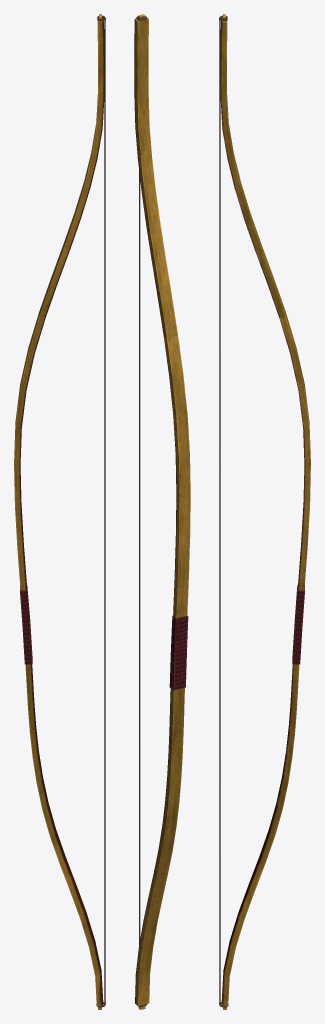
Rendered from yumi.glb.
The picture shows the model from 3 angles, left to right: view 1: azimuth 90°, elevation 25°; view 2: azimuth 210°, elevation 25°; view 3: azimuth 270°, elevation 25°; orthographic projection.
Visible parts, largest first — view 1: Object_125; view 2: Object_125; view 3: Object_125.
Part boxes in pixels (left/top/right/bottom): Object_125: left=14, top=14, right=105, bottom=1009; Object_125: left=134, top=14, right=190, bottom=1009; Object_125: left=219, top=14, right=310, bottom=1009.
Bounding box in the file's own units: 0.0264 × 2.04 × 0.1709.
Materials: 1 (1 with a texture image).
